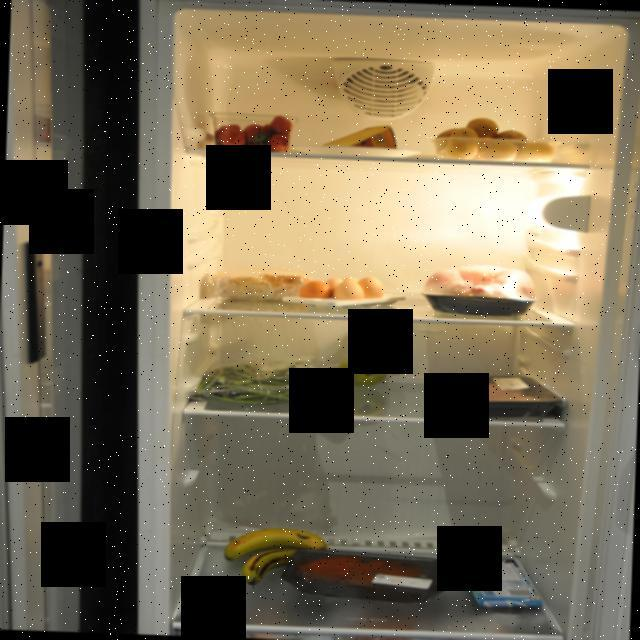Carne pollo: (420, 256, 543, 318), (426, 369, 566, 422)
Carne vacuno: (276, 544, 449, 606)
Huevos: (300, 272, 385, 310)
Manzana: (337, 352, 389, 388)
Patata: (428, 115, 566, 164)
Plátano: (222, 524, 340, 590)
Queso: (310, 120, 402, 158)
